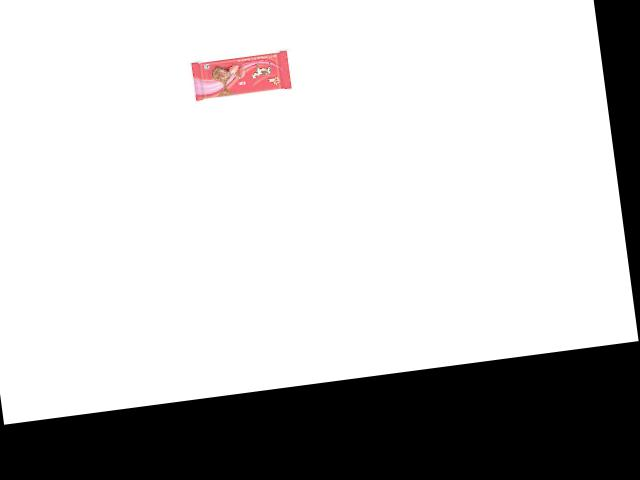chocolate: (189, 42, 299, 100)
